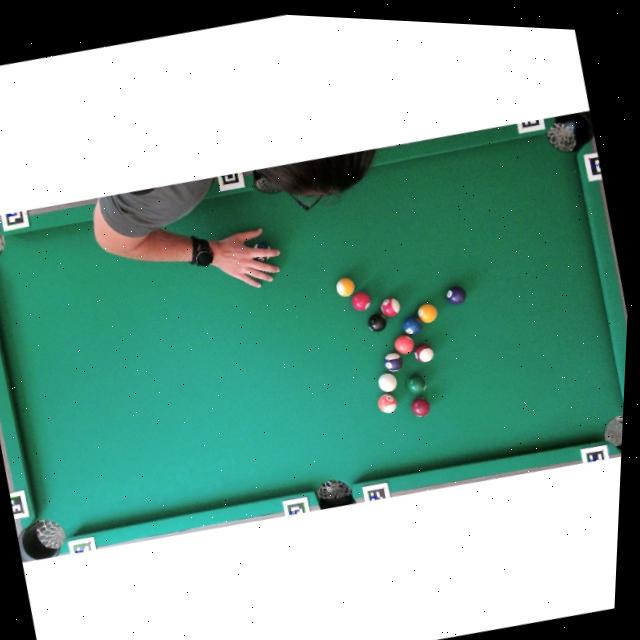cue ball: (376, 369, 400, 394)
other: (377, 293, 403, 320), (374, 390, 400, 416), (391, 331, 417, 357), (443, 282, 469, 307), (348, 289, 374, 314), (399, 313, 425, 338), (415, 300, 440, 325), (333, 274, 357, 299), (404, 371, 428, 396), (381, 349, 405, 374), (411, 340, 435, 364), (408, 395, 432, 419), (365, 310, 389, 334)
